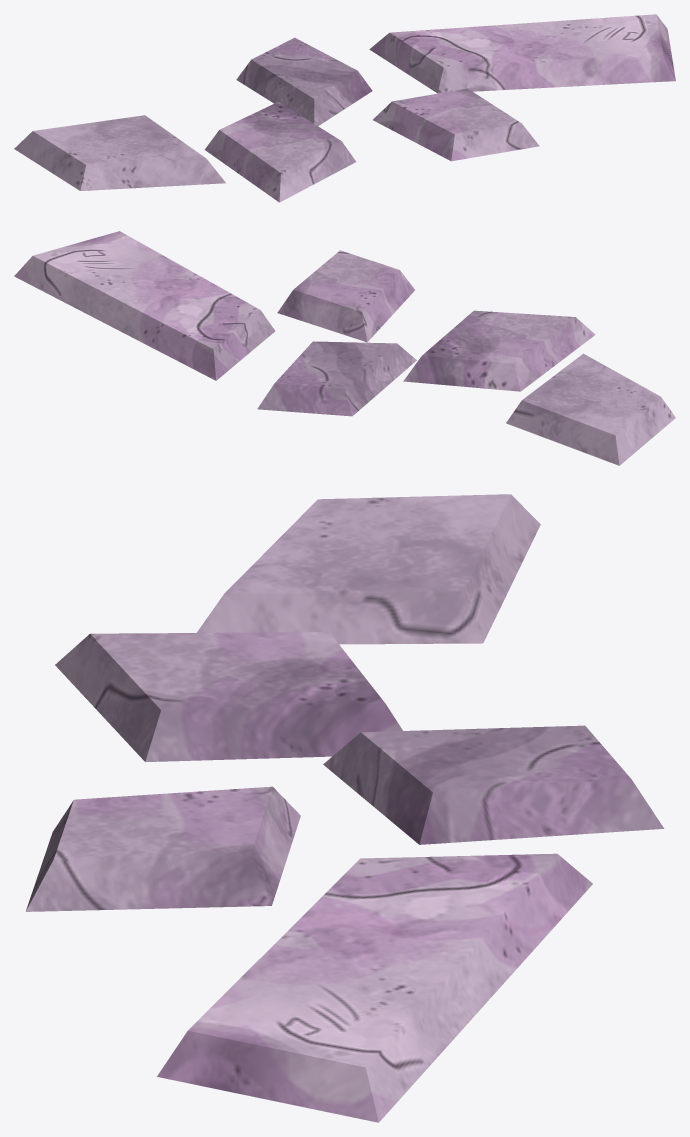
Rendered from s0_Path_02__1__01.glb.
3 renders of one model, top to bottom at view 1: azimuth 30°, elevation 25°; view 2: azimuth 150°, elevation 25°; view 3: azimuth 270°, elevation 25°, orthographic. The views are drawn at different scales.
Visible parts, largest first — view 1: node_Path_02 (1); view 2: node_Path_02 (1); view 3: node_Path_02 (1).
Boxes of the visible parts, x1,y1,x2,y2 form: node_Path_02 (1): [14, 14, 675, 202]; node_Path_02 (1): [14, 231, 675, 465]; node_Path_02 (1): [25, 494, 664, 1122].
Size of what is drawn, in the model's own units: 6.47 by 0.2079 by 2.92.
Materials: 1 (1 with a texture image).
